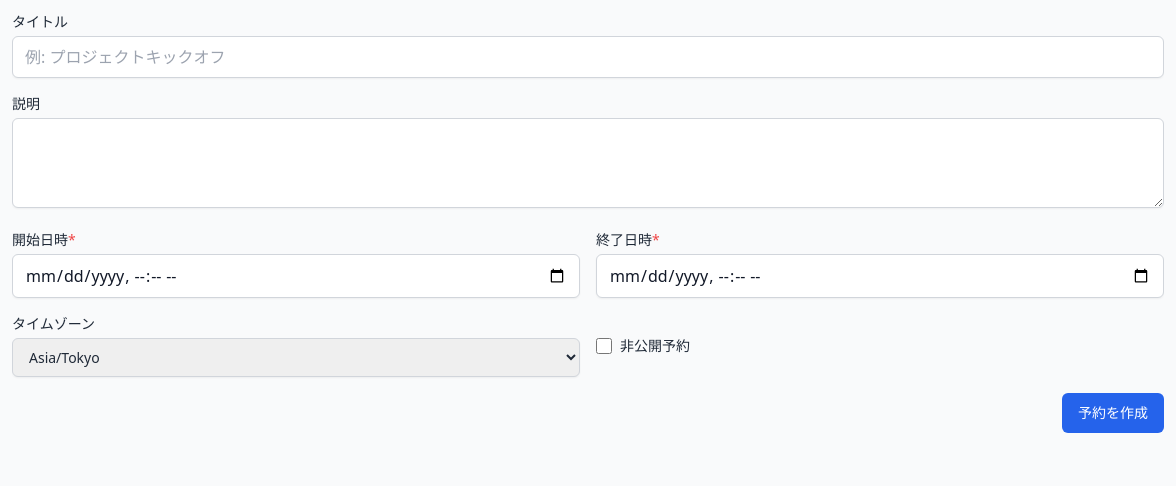
Test: ReservationForm › shows validation error when end time is before start time
Type "テスト" into the field labelled "タイトル" at (588, 57), box [12, 36, 1164, 78]
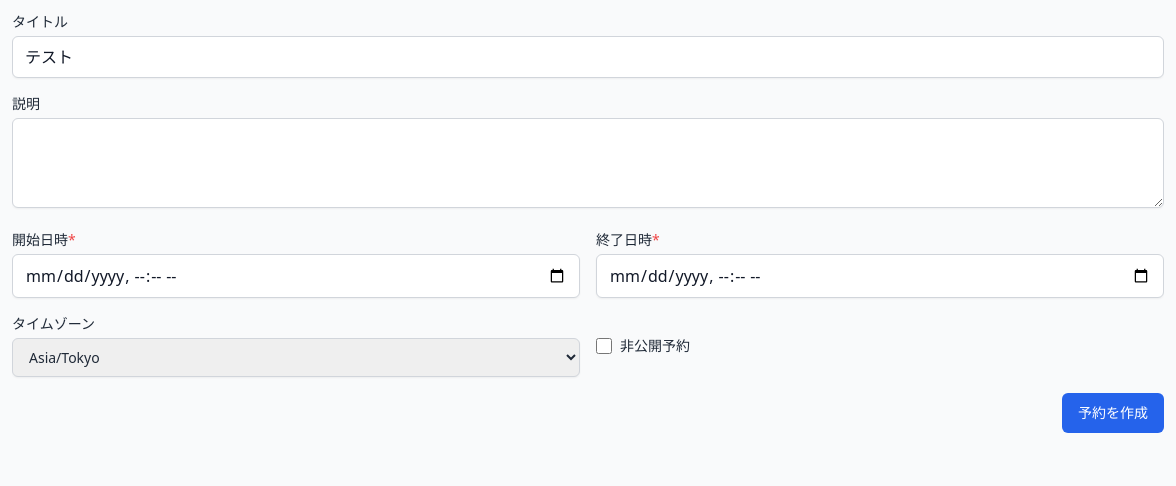
Type "2025-11-24T10:00" into the field with test id "startAt" at (296, 276), box [12, 254, 580, 298]
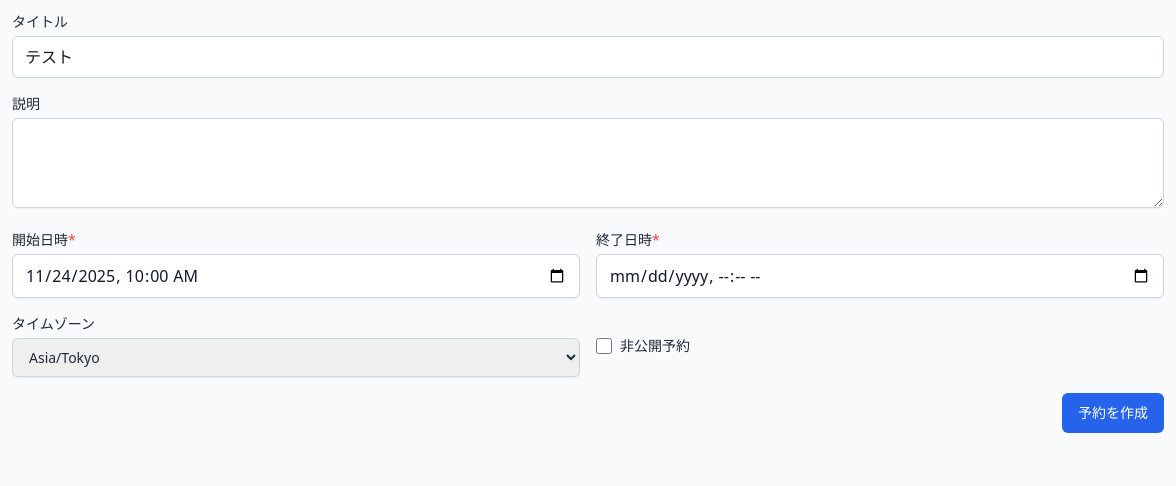
Type "2025-11-24T09:00" into the field with test id "endAt" at (880, 276), box [596, 254, 1164, 298]
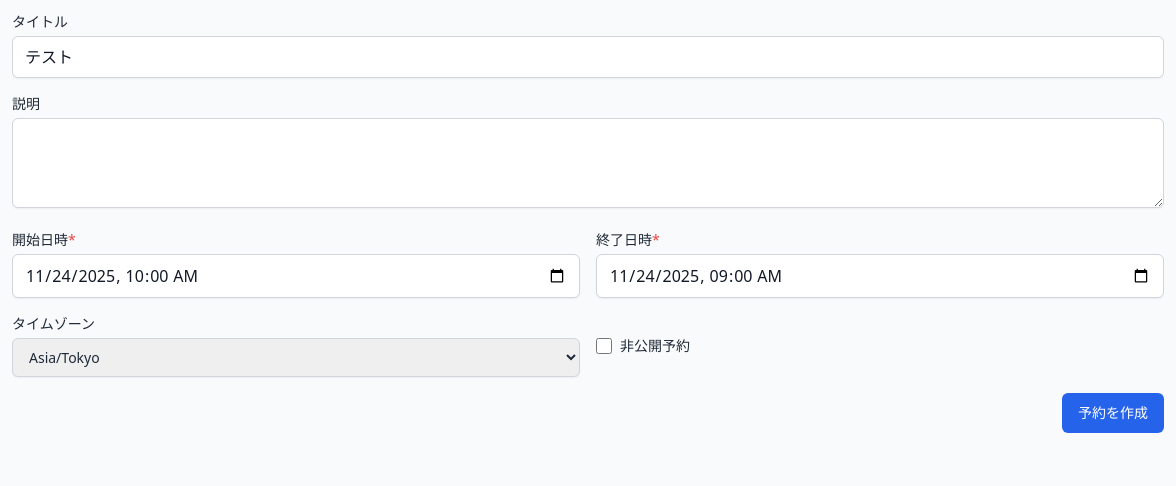
Submit the form named "予約フォーム"
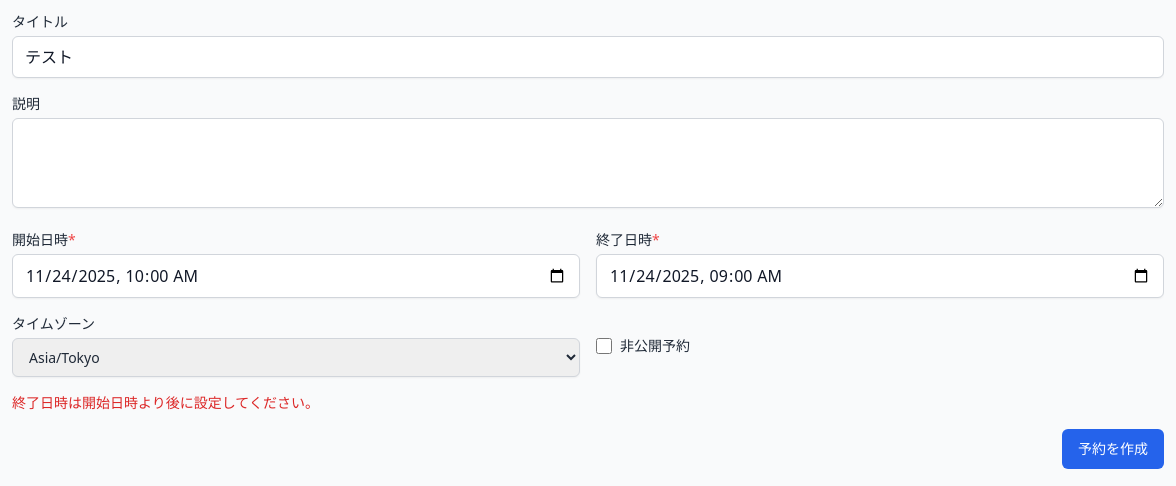
Result: the text "終了日時は開始日時より後に設定してください。" is shown at [12, 393, 319, 412]
